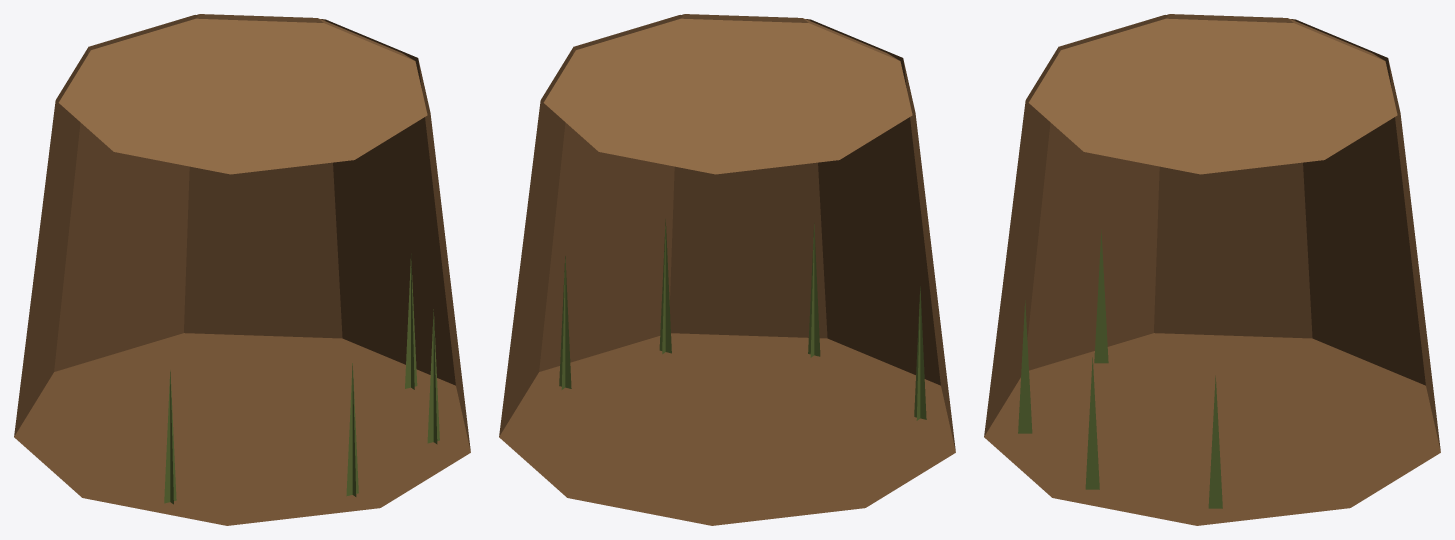
The model's file is vegetation-tree-stump.glb.
The picture shows the model from 3 angles, left to right: view 1: azimuth 30°, elevation 25°; view 2: azimuth 150°, elevation 25°; view 3: azimuth 270°, elevation 25°; orthographic projection.
Parts seen in each view (by area): view 1: vegetation-tree-stump; view 2: vegetation-tree-stump; view 3: vegetation-tree-stump.
Part boxes in pixels (<box>): vegetation-tree-stump: <box>14,14,470,525</box>; vegetation-tree-stump: <box>499,14,955,525</box>; vegetation-tree-stump: <box>984,14,1440,525</box>.
Size of the model in its own units: 0.7647 by 0.635 by 0.7657.
